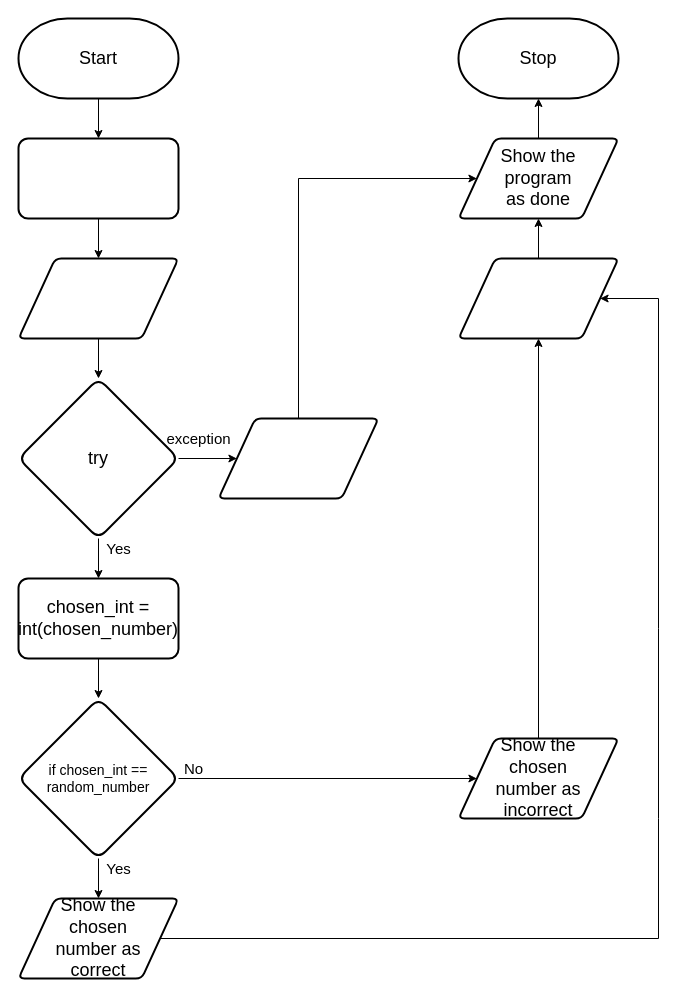
The diagram is 684 pixels wide and 998 high, and some of its shapes have lost their labels. Here are the shapes that lost their labels. From the top down, the centre of each, then its label:
the point at 98,178: Set a random number
the point at 98,298: Set the chosen number
the point at 538,298: Show the hidden number
the point at 298,458: Show the chosen number as not an integer
